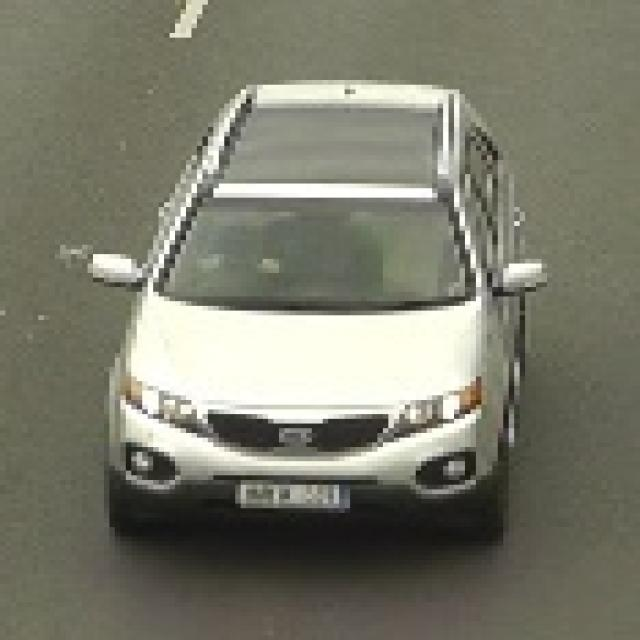SUV: (120, 91, 509, 551)
